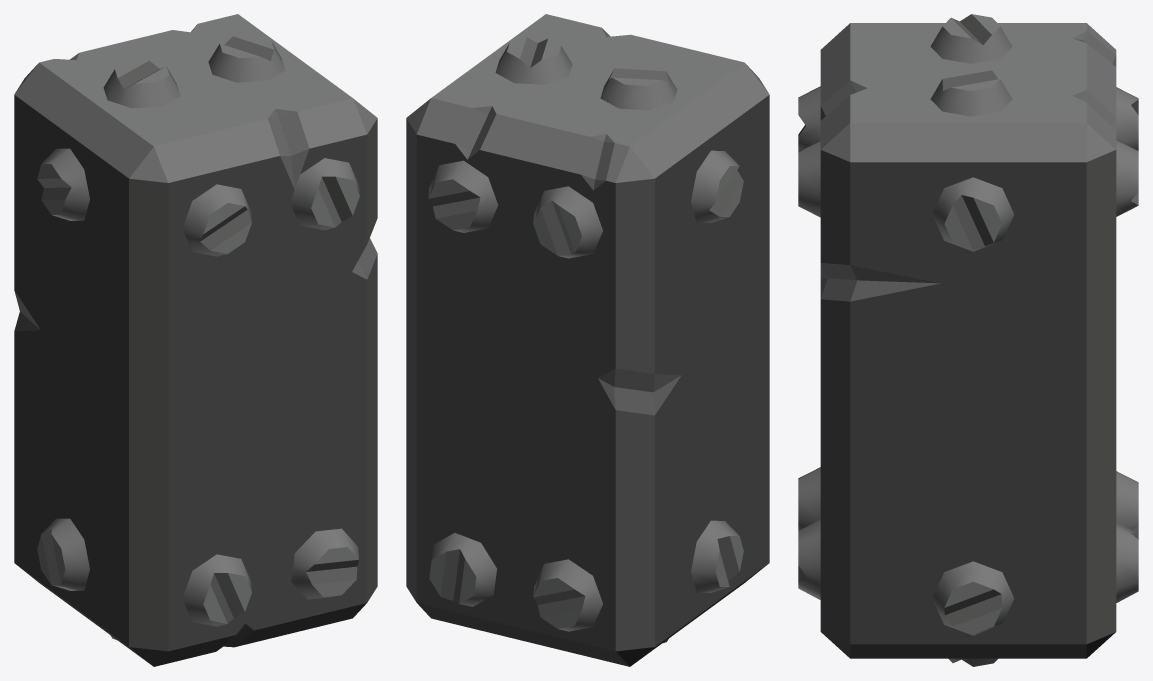
The model's file is m_kub_metalOld_vrick.FBX.
3 views of the same model, side by side, from view 1: azimuth 30°, elevation 25°; view 2: azimuth 150°, elevation 25°; view 3: azimuth 270°, elevation 25° (orthographic). The views are drawn at different scales.
Parts seen in each view (by area): view 1: m_kub_metalOld_vrick; view 2: m_kub_metalOld_vrick; view 3: m_kub_metalOld_vrick.
Part boxes in pixels (x1,y1,x2,y2): m_kub_metalOld_vrick: (14, 14, 377, 666); m_kub_metalOld_vrick: (406, 14, 769, 666); m_kub_metalOld_vrick: (798, 14, 1138, 666).
Size of the model in its own units: 1.15 by 2.15 by 1.15.
